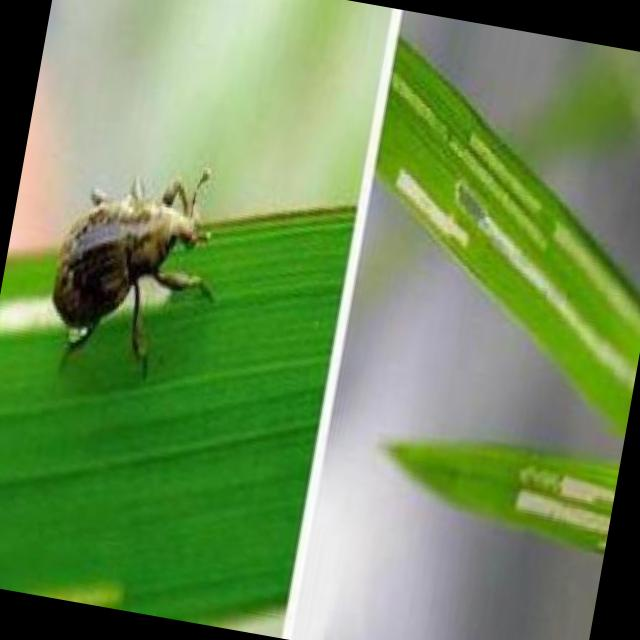rice-bug: (39, 169, 214, 354)
